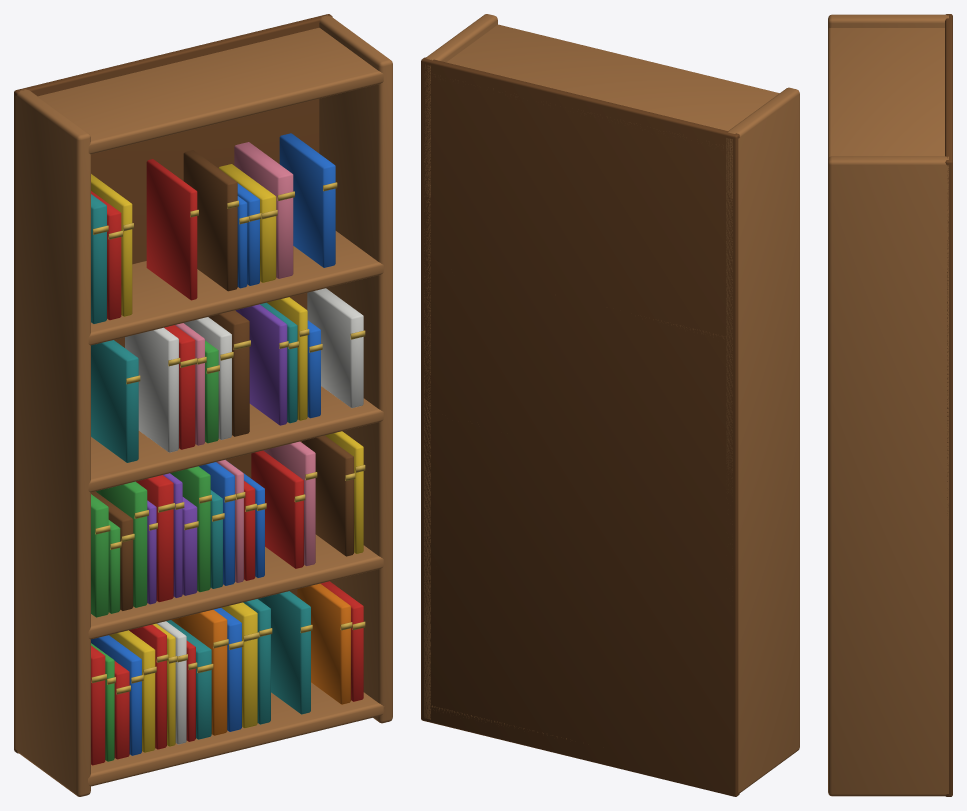
File: bookshelf.glb
3 views of the same model, side by side, from view 1: azimuth 30°, elevation 25°; view 2: azimuth 150°, elevation 25°; view 3: azimuth 270°, elevation 25° (orthographic). The views are drawn at different scales.
Parts seen in each view (by area): view 1: bookshelf; view 2: bookshelf; view 3: bookshelf.
Boxes of the visible parts, x1=… form: bookshelf: x1=14, y1=14, x2=392, y2=796; bookshelf: x1=421, y1=14, x2=799, y2=796; bookshelf: x1=828, y1=14, x2=952, y2=796.
Bounding box in the file's own units: 0.9 × 1.8 × 0.32.
